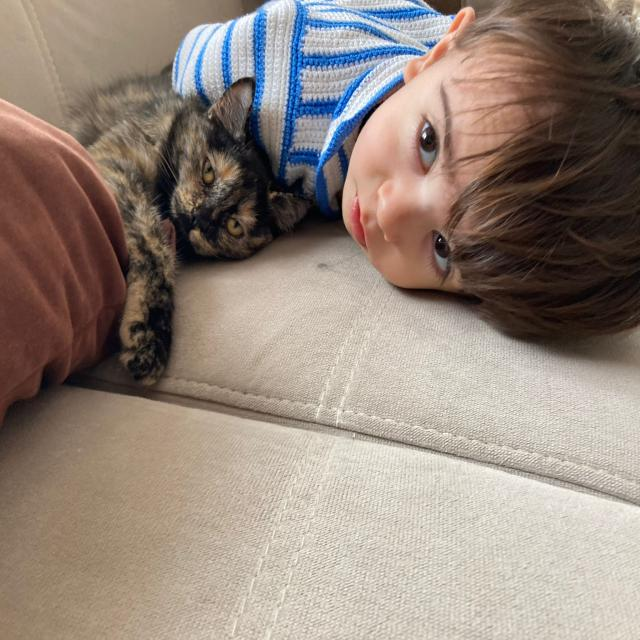authorized: (60, 61, 313, 388)
